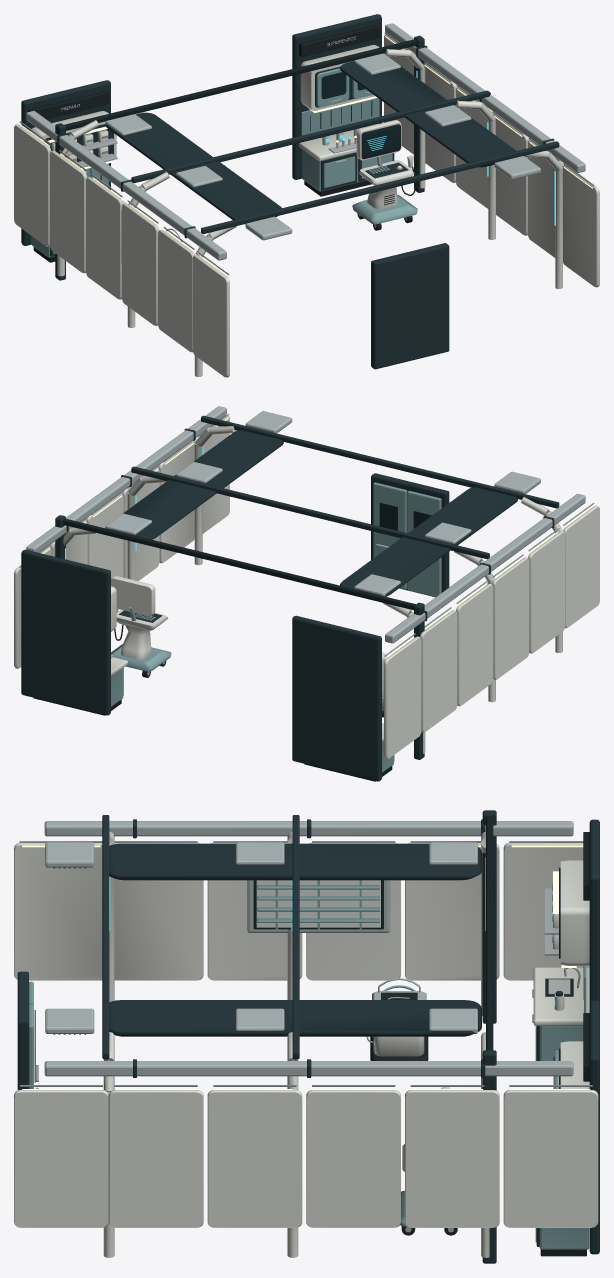
File: entorno-arena-direcao.glb
The picture shows the model from 3 angles, top to bottom: view 1: azimuth 30°, elevation 25°; view 2: azimuth 150°, elevation 25°; view 3: azimuth 270°, elevation 25°; orthographic projection. The views are drawn at different scales.
Parts seen in each view (by area): view 1: Entorno_Marfim_Direcao.002, Entorno_Petroleo_Direcao.002, Entorno_Metal_Direcao.002, Entorno_Esmalte_Direcao.003, Entorno_Borracha_Direcao.002, Entorno_Visor_Opaco_Direcao.002, Entorno_Ambar_Direcao.002; view 2: Entorno_Petroleo_Direcao.002, Entorno_Marfim_Direcao.002, Entorno_Metal_Direcao.002, Entorno_Esmalte_Direcao.003, Entorno_Visor_Opaco_Direcao.002, Entorno_Ambar_Direcao.002; view 3: Entorno_Marfim_Direcao.002, Entorno_Petroleo_Direcao.002, Entorno_Metal_Direcao.002, Entorno_Esmalte_Direcao.003, Entorno_Borracha_Direcao.002, Entorno_Ambar_Direcao.002, Entorno_Visor_Opaco_Direcao.002.
Part boxes in pixels (box(x1,y1,x2,y2)): Entorno_Marfim_Direcao.002: box(14, 34, 599, 377); Entorno_Petroleo_Direcao.002: box(21, 14, 559, 369); Entorno_Metal_Direcao.002: box(19, 23, 594, 275); Entorno_Esmalte_Direcao.003: box(31, 68, 417, 257); Entorno_Borracha_Direcao.002: box(28, 24, 416, 262); Entorno_Visor_Opaco_Direcao.002: box(321, 72, 399, 156); Entorno_Ambar_Direcao.002: box(21, 36, 592, 277); Entorno_Petroleo_Direcao.002: box(21, 415, 559, 781); Entorno_Marfim_Direcao.002: box(14, 416, 599, 758); Entorno_Metal_Direcao.002: box(19, 406, 594, 675); Entorno_Esmalte_Direcao.003: box(111, 482, 441, 772); Entorno_Visor_Opaco_Direcao.002: box(379, 502, 431, 530); Entorno_Ambar_Direcao.002: box(21, 417, 592, 697); Entorno_Marfim_Direcao.002: box(14, 831, 598, 1257); Entorno_Petroleo_Direcao.002: box(17, 810, 599, 1263); Entorno_Metal_Direcao.002: box(19, 821, 592, 1232); Entorno_Esmalte_Direcao.003: box(29, 880, 589, 1249); Entorno_Borracha_Direcao.002: box(53, 832, 589, 1256); Entorno_Ambar_Direcao.002: box(22, 845, 590, 1089); Entorno_Visor_Opaco_Direcao.002: box(34, 880, 554, 1088).
Size of the model in its own units: 9.15 by 3.6 by 9.08.
